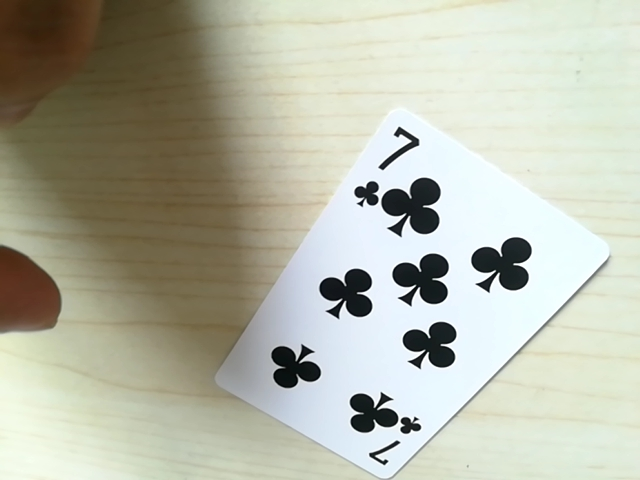mh 7: (352, 108, 429, 212), (351, 411, 422, 474)
